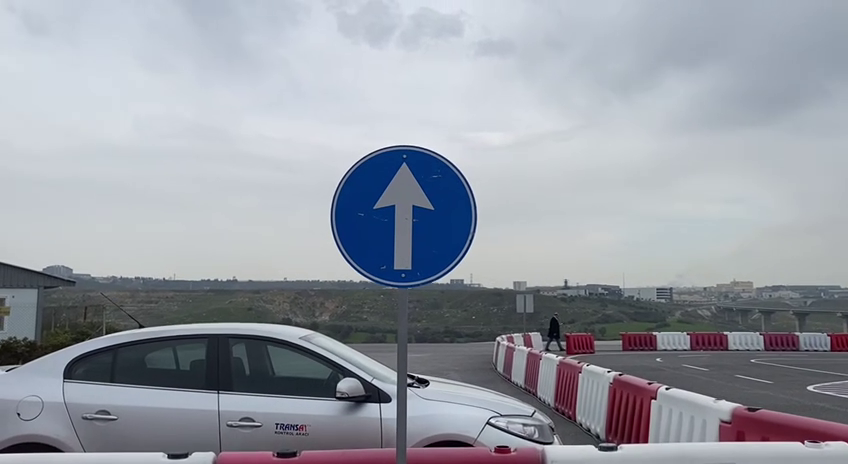forward: (329, 143, 479, 290)
